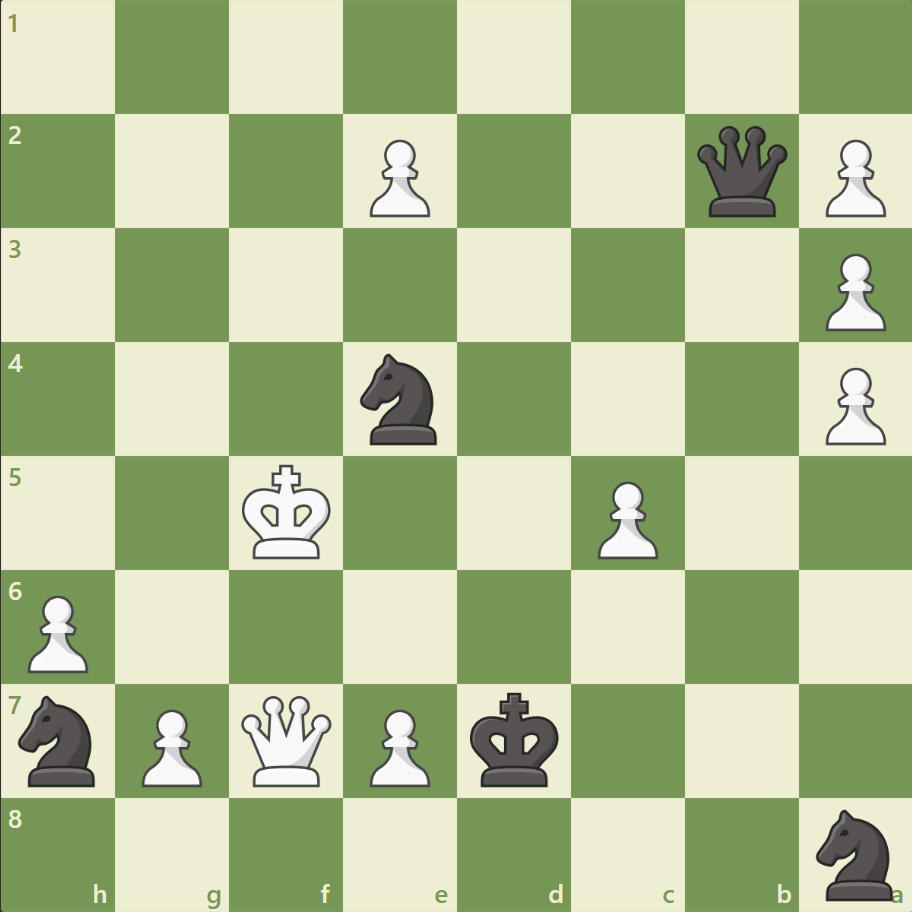K: (238, 458, 338, 566)
P: (133, 700, 208, 791), (20, 586, 95, 677), (361, 700, 435, 791), (588, 473, 662, 564), (815, 359, 889, 450), (815, 246, 889, 337), (815, 132, 889, 223), (361, 132, 435, 223)
Q: (237, 690, 336, 789)
k: (465, 685, 565, 793)
n: (351, 348, 449, 450), (11, 688, 108, 791), (806, 802, 903, 904)
q: (691, 122, 790, 222)
